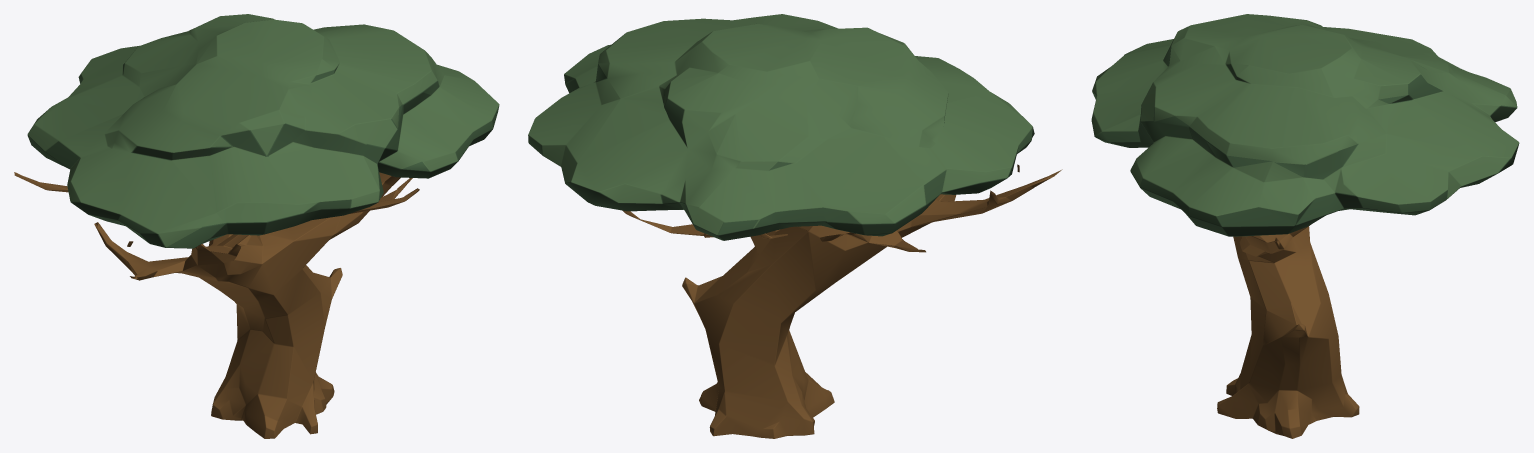
Rendered from prop_stone_pine.glb.
3 renders of one model, left to right at view 1: azimuth 30°, elevation 25°; view 2: azimuth 150°, elevation 25°; view 3: azimuth 270°, elevation 25°, orthographic. The views are drawn at different scales.
Parts seen in each view (by area): view 1: LeafCanopy, Trunk; view 2: LeafCanopy, Trunk; view 3: LeafCanopy, Trunk.
Part boxes in pixels (box(x1,y1,x2,y2)): LeafCanopy: box(27, 14, 499, 248); Trunk: box(14, 172, 419, 438); LeafCanopy: box(528, 14, 1034, 240); Trunk: box(623, 164, 1062, 438); LeafCanopy: box(1091, 14, 1519, 236); Trunk: box(1217, 225, 1359, 438).
Size of the model in its own units: 1.12 by 0.9638 by 1.02.
